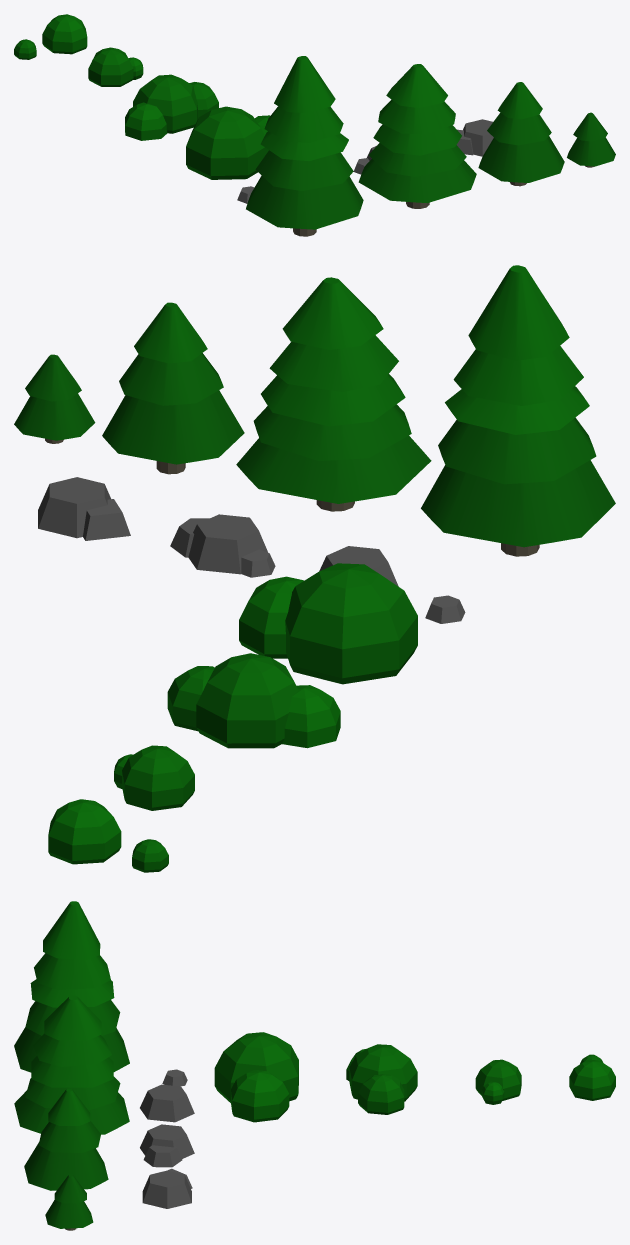
Rendered from Export Oraganic Level 1.fbx.
3 views of the same model, one above another, from view 1: azimuth 30°, elevation 25°; view 2: azimuth 150°, elevation 25°; view 3: azimuth 270°, elevation 25° (orthographic). The views are drawn at different scales.
Parts seen in each view (by area): view 1: group10_pasted__group4_pasted__pasted__pCylinder1, group6_pasted__group5_pasted__pasted__group4_pasted__pasted_, group9_pasted__group4_pasted__pasted__group2_pasted__pasted_, group27_pasted__pSphere2, group30_pasted__group27_pasted__pasted__pSphere2, pasted__group9_pasted__pasted__group4_pasted__pasted__pasted, group33_pasted__group32_pasted__pasted__group30_pasted__past, pasted__pasted__pasted__pSphere2, group19_pasted__pSphere1, pasted__pasted__pasted__pasted__pSphere2; view 2: group10_pasted__group4_pasted__pasted__pCylinder1, group6_pasted__group5_pasted__pasted__group4_pasted__pasted_, group27_pasted__pSphere2, group9_pasted__group4_pasted__pasted__group2_pasted__pasted_, group30_pasted__group27_pasted__pasted__pSphere2, pasted__pasted__pasted__pasted__pSphere1, pasted__group9_pasted__pasted__group4_pasted__pasted__pasted, group19_pasted__pSphere1, group33_pasted__group32_pasted__pasted__group30_pasted__past, pasted__pasted__pasted__pSphere2, pasted__pasted__pasted__pSphere1, pasted__pasted__pasted__pasted__pSphere2 (+1 smaller); view 3: group6_pasted__group5_pasted__pasted__group4_pasted__pasted_, group10_pasted__group4_pasted__pasted__pCylinder1, group27_pasted__pSphere2, group9_pasted__group4_pasted__pasted__group2_pasted__pasted_, group30_pasted__group27_pasted__pasted__pSphere2, pasted__pasted__pasted__pasted__pSphere1, pasted__group9_pasted__pasted__group4_pasted__pasted__pasted, group33_pasted__group32_pasted__pasted__group30_pasted__past, group19_pasted__pSphere1, pasted__pasted__pasted__pSphere1, pasted__pasted__pasted__pSphere2.
Boxes of the visible parts, x1,y1,x2,y2 form: group10_pasted__group4_pasted__pasted__pCylinder1: (246,56,363,236); group6_pasted__group5_pasted__pasted__group4_pasted__pasted_: (358,64,476,208); group9_pasted__group4_pasted__pasted__group2_pasted__pasted_: (478,82,564,186); group27_pasted__pSphere2: (186,106,270,179); group30_pasted__group27_pasted__pasted__pSphere2: (125,74,218,140); pasted__group9_pasted__pasted__group4_pasted__pasted__pasted: (567,112,615,167); group33_pasted__group32_pasted__pasted__group30_pasted__past: (88,47,143,86); pasted__pasted__pasted__pSphere2: (42,14,87,54); group19_pasted__pSphere1: (456,119,493,156); pasted__pasted__pasted__pasted__pSphere2: (14,39,36,59); group10_pasted__group4_pasted__pasted__pCylinder1: (421,265,615,556); group6_pasted__group5_pasted__pasted__group4_pasted__pasted_: (236,277,431,511); group27_pasted__pSphere2: (239,563,417,684); group9_pasted__group4_pasted__pasted__group2_pasted__pasted_: (102,302,244,474); group30_pasted__group27_pasted__pasted__pSphere2: (167,653,340,748); pasted__pasted__pasted__pasted__pSphere1: (170,514,275,577); pasted__group9_pasted__pasted__group4_pasted__pasted__pasted: (14,354,95,443); group19_pasted__pSphere1: (38,477,130,540); group33_pasted__group32_pasted__pasted__group30_pasted__past: (114,745,194,810); pasted__pasted__pasted__pSphere2: (48,799,121,864); pasted__pasted__pasted__pSphere1: (319,546,398,586); pasted__pasted__pasted__pasted__pSphere2: (132,839,168,872); group6_pasted__group5_pasted__pasted__group4_pasted__pasted_: (14,995,129,1134); group10_pasted__group4_pasted__pasted__pCylinder1: (14,901,129,1072); group27_pasted__pSphere2: (214,1032,298,1122); group9_pasted__group4_pasted__pasted__group2_pasted__pasted_: (24,1088,108,1190); group30_pasted__group27_pasted__pasted__pSphere2: (346,1044,417,1114); pasted__pasted__pasted__pasted__pSphere1: (140,1124,194,1167); pasted__group9_pasted__pasted__group4_pasted__pasted__pasted: (45,1174,93,1230); group33_pasted__group32_pasted__pasted__group30_pasted__past: (475,1059,521,1104); group19_pasted__pSphere1: (142,1168,192,1208); pasted__pasted__pasted__pSphere1: (140,1084,194,1122); pasted__pasted__pasted__pSphere2: (569,1060,615,1100).
Bounding box in the file's own units: 9.29 × 4.41 × 13.27.
